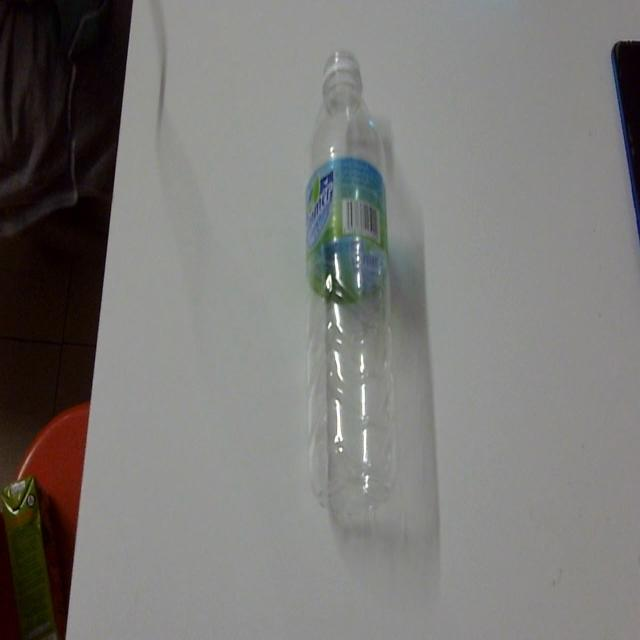plastic_laydown_90rotation: (296, 42, 416, 528)
